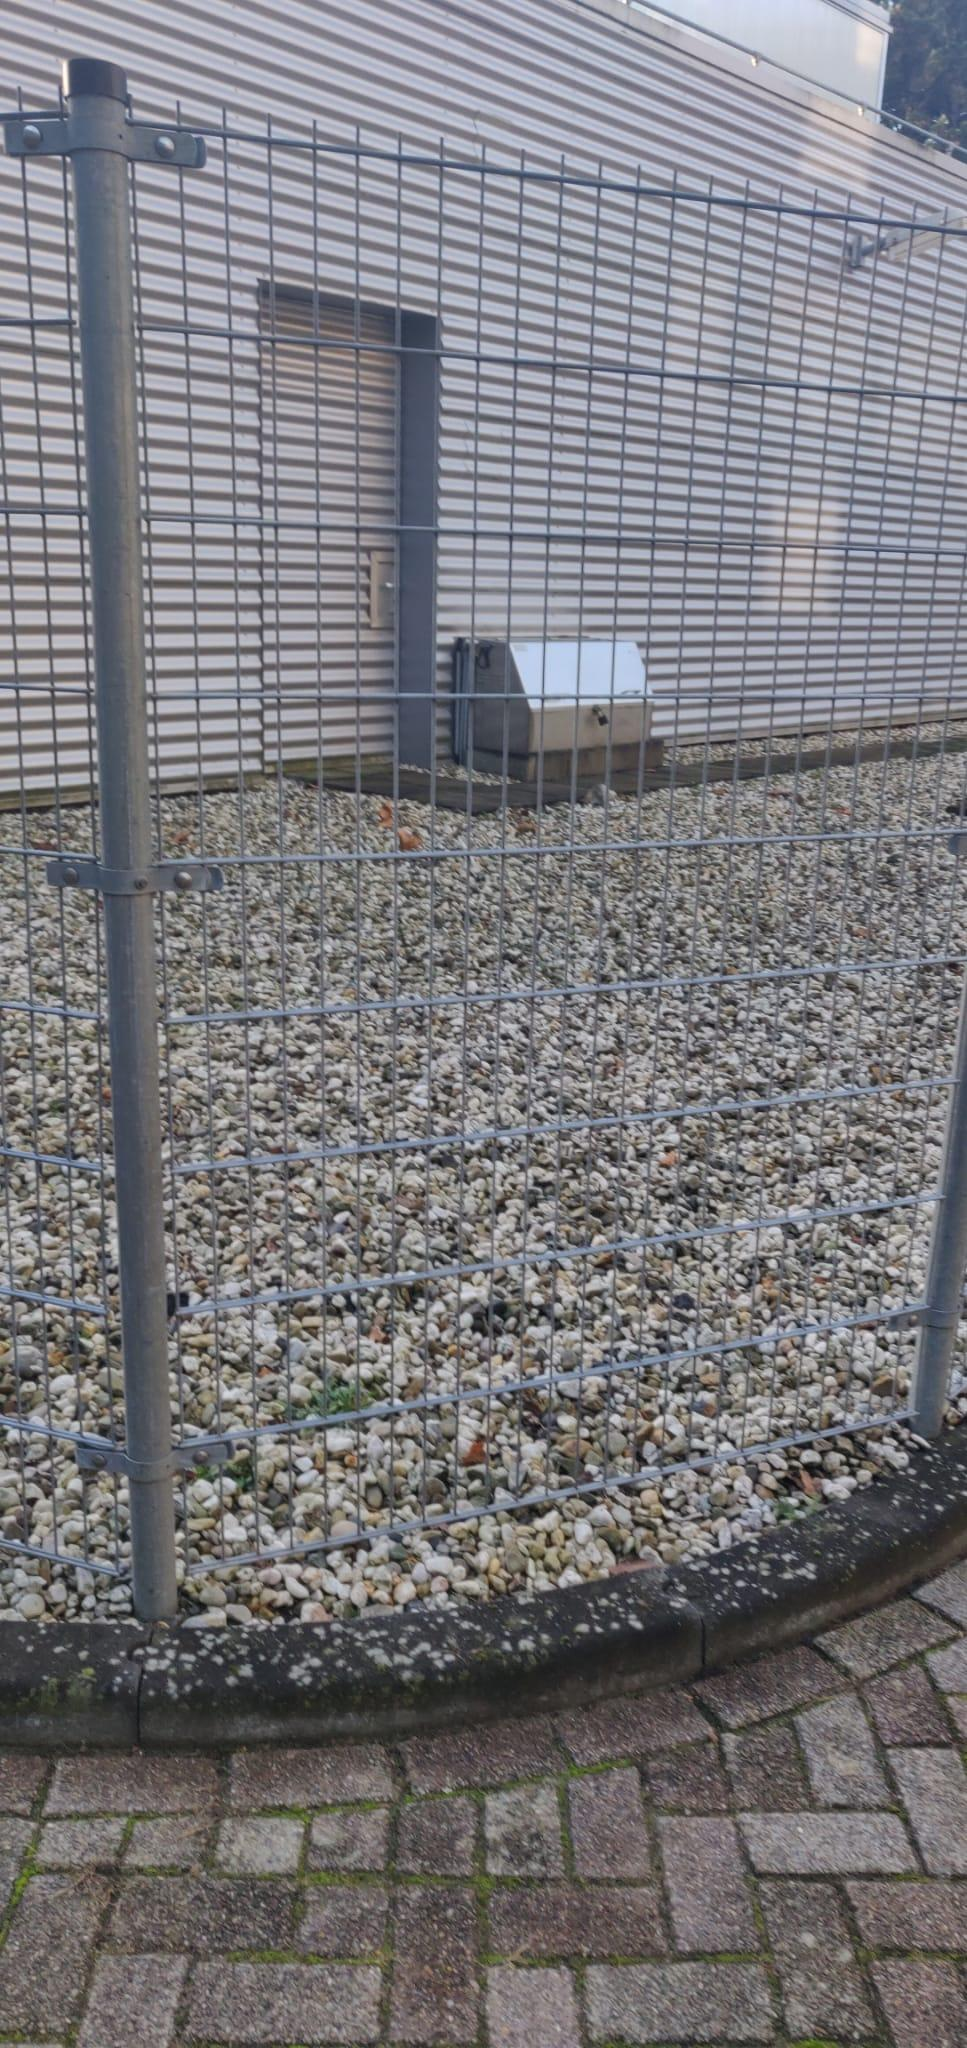obstacle: (63, 0, 967, 2048)
